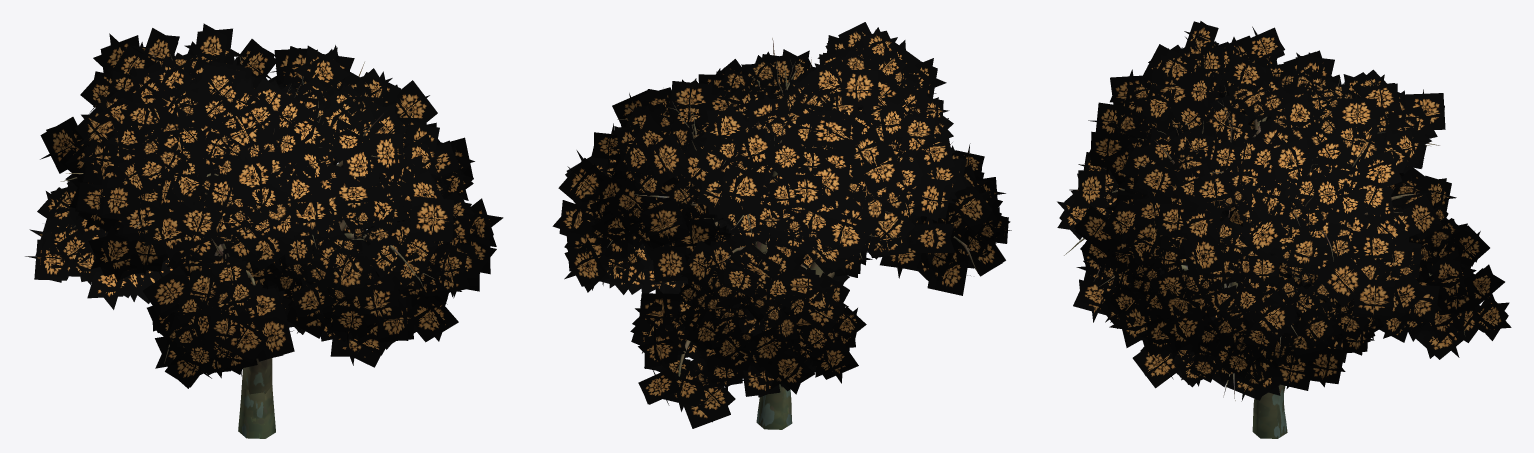
File: Tree2.fbx
3 views of the same model, side by side, from view 1: azimuth 30°, elevation 25°; view 2: azimuth 150°, elevation 25°; view 3: azimuth 270°, elevation 25° (orthographic). The views are drawn at different scales.
Parts seen in each view (by area): view 1: TreeLeaf2, treeTrunk2; view 2: TreeLeaf2, treeTrunk2; view 3: TreeLeaf2, treeTrunk2.
Part boxes in pixels (<box>): TreeLeaf2: <box>25,23,503,388</box>; treeTrunk2: <box>60,49,434,438</box>; TreeLeaf2: <box>552,22,1011,428</box>; treeTrunk2: <box>607,38,979,429</box>; TreeLeaf2: <box>1057,21,1511,401</box>; treeTrunk2: <box>1064,77,1464,438</box>.
Bounding box in the file's own units: 15.38 × 16 × 14.44.
2 materials, 2 textured.
